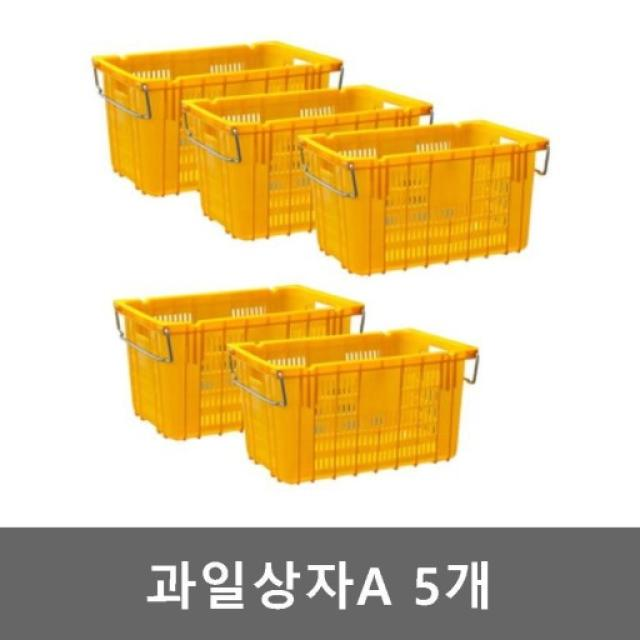basket: (112, 262, 381, 448), (181, 76, 445, 245), (298, 111, 561, 280), (92, 32, 354, 201), (228, 325, 488, 488)
